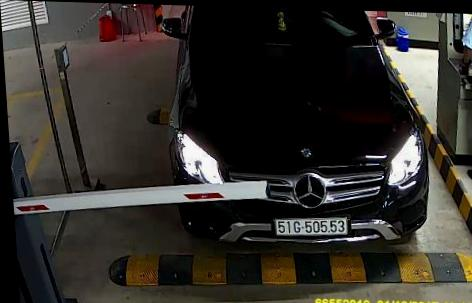License_Plate: (270, 215, 352, 238)
